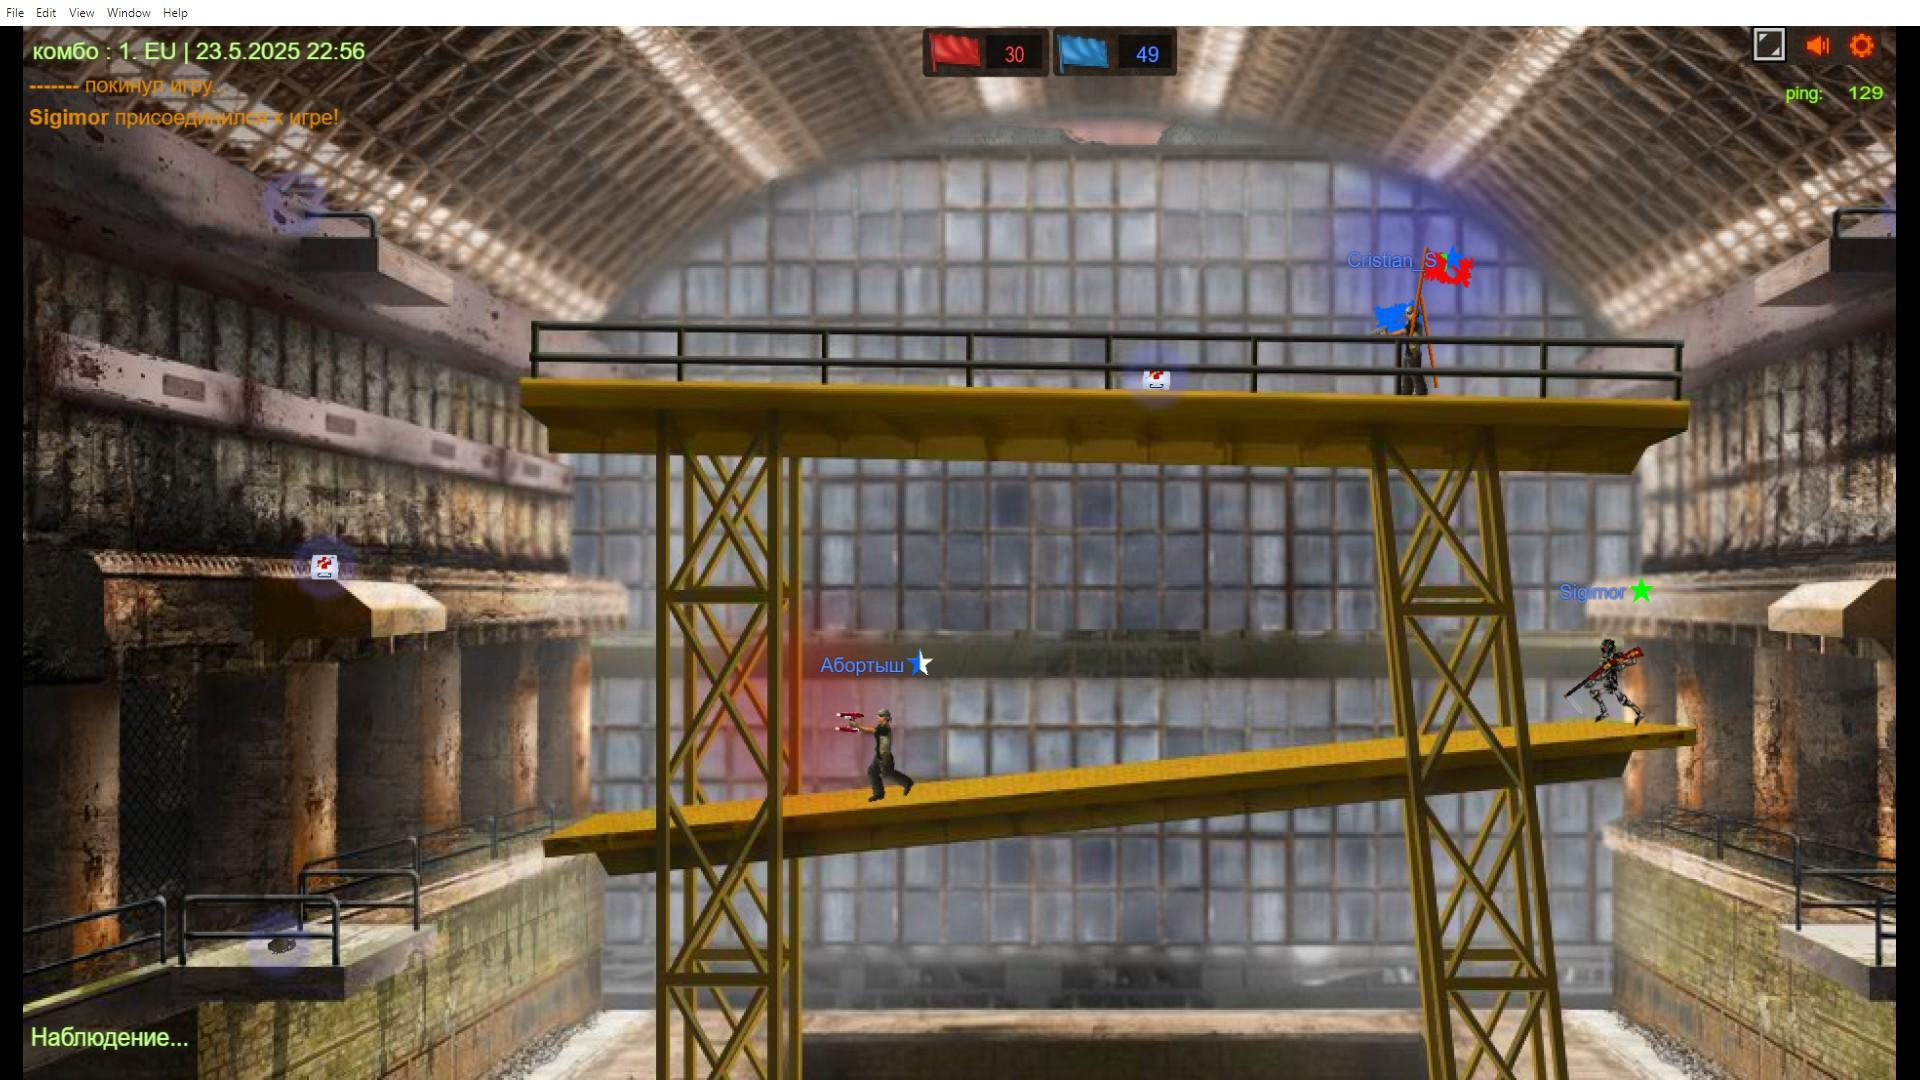enemy: (1383, 293, 1443, 400), (862, 705, 918, 810), (1581, 634, 1644, 725)
